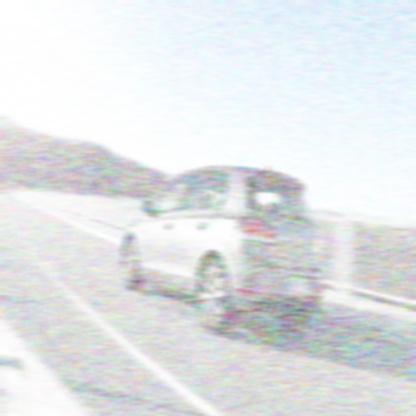Vehicle: (121, 163, 325, 337)
